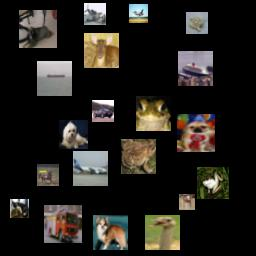airplane: (73, 151, 108, 186), (84, 3, 106, 25), (129, 4, 148, 23)
automobile: (92, 100, 114, 122)
bird: (145, 215, 180, 250)
cat: (10, 199, 29, 218)
deer: (84, 33, 119, 68)
dog: (19, 10, 57, 48), (177, 114, 215, 152), (93, 215, 128, 250), (59, 120, 88, 149)
frog: (121, 139, 156, 174), (136, 96, 171, 131), (197, 167, 229, 199), (186, 12, 208, 34)
ship: (178, 51, 213, 86), (37, 61, 72, 96)
truck: (44, 205, 82, 243)
